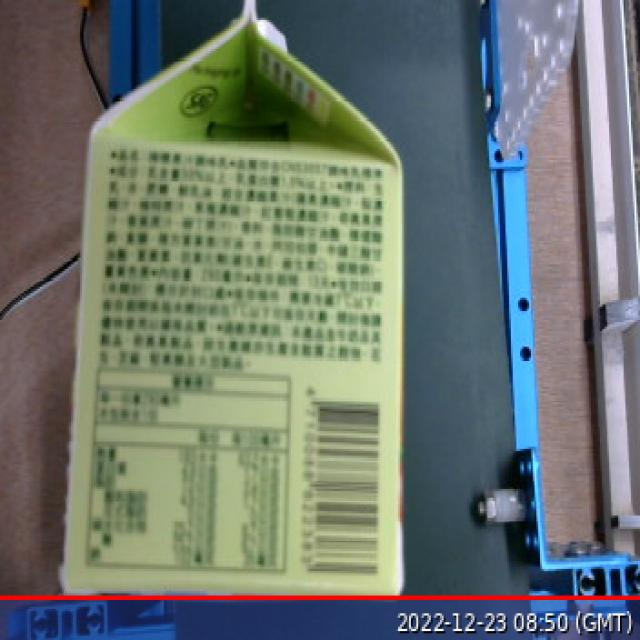non_white_jug: (44, 0, 412, 607)
